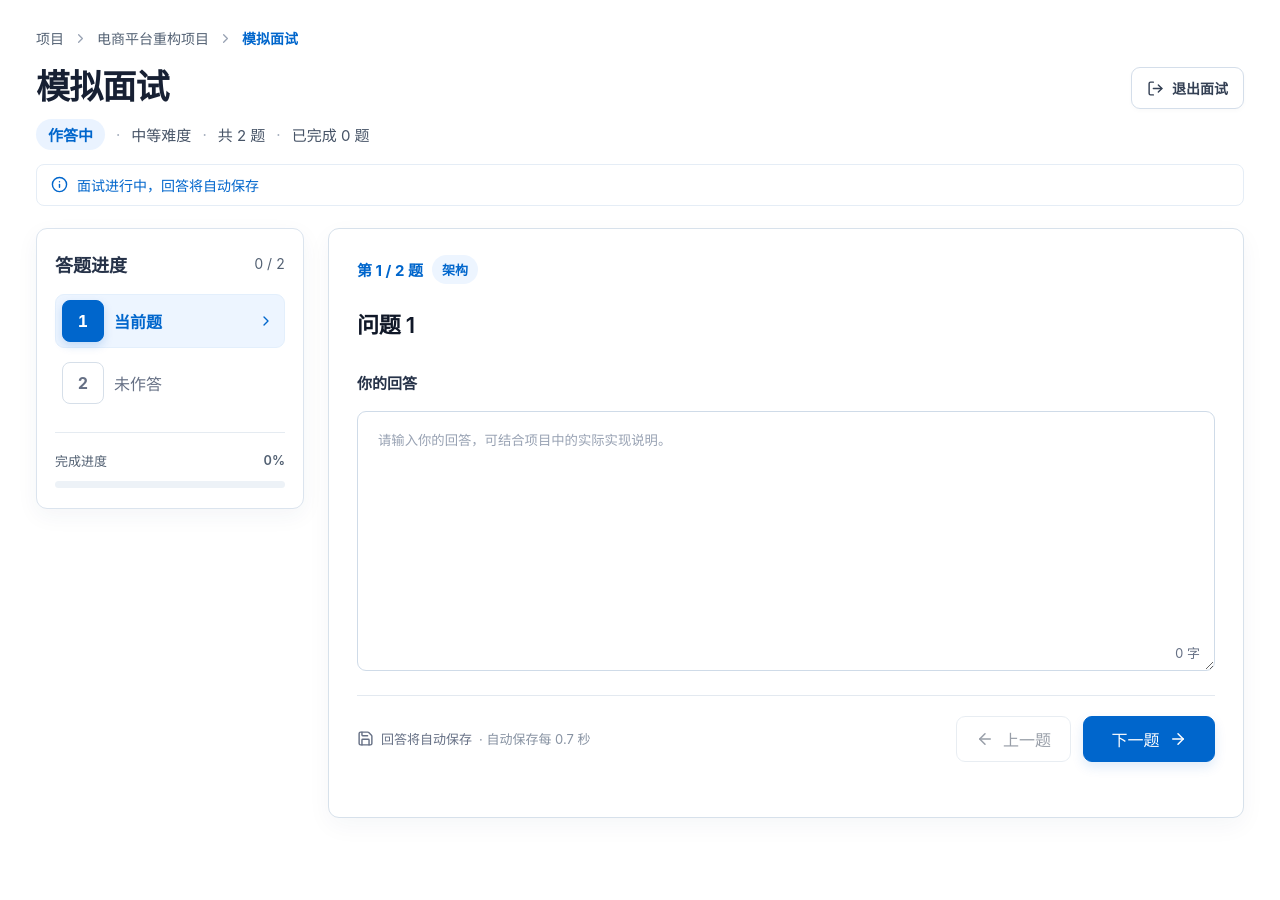
Scenario: InterviewSessionClient › retries a failed save through the existing answer endpoint
Step 1. Type "需要保存的回答" into the text box labelled "你的回答" → (786, 541), box [357,411,1215,671]
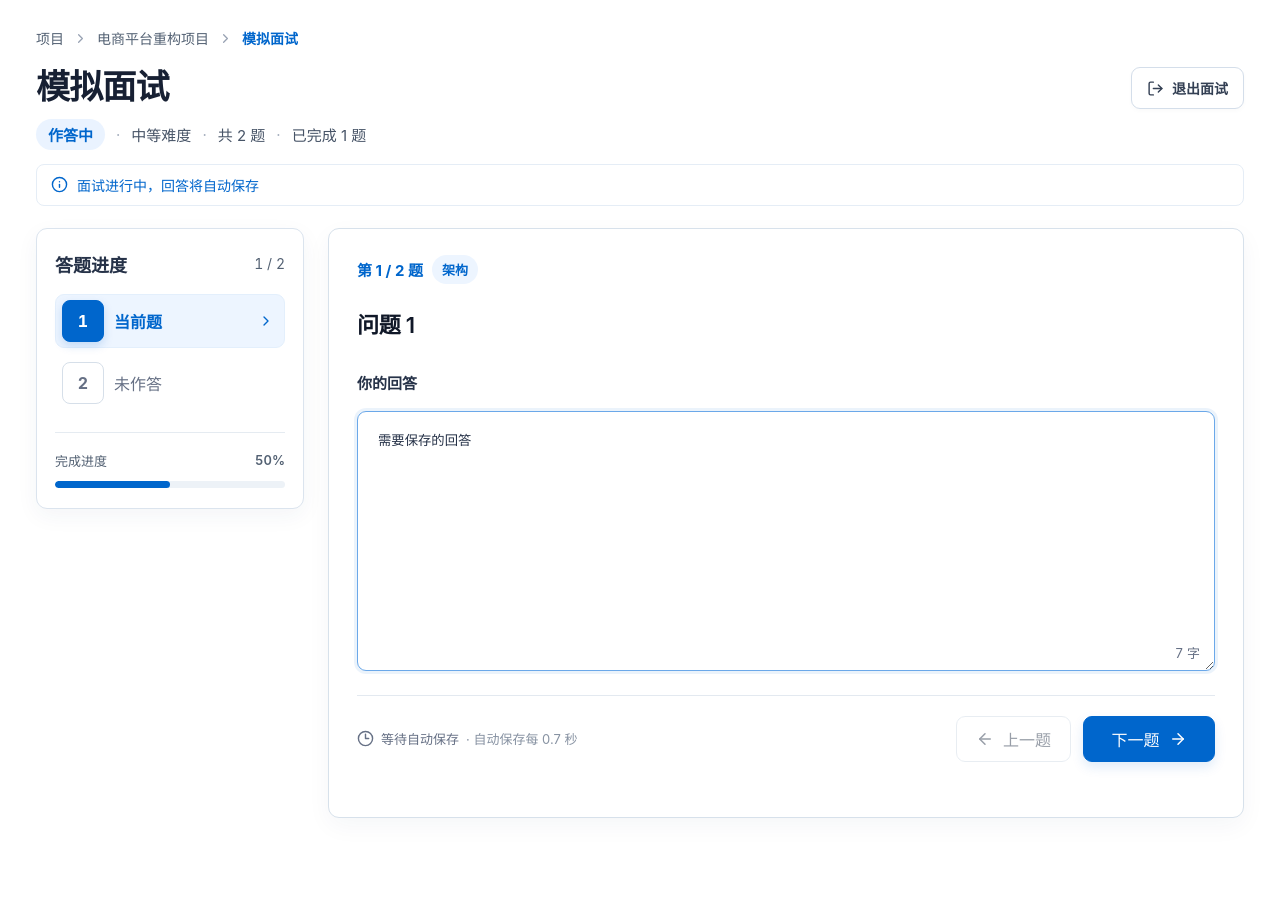
Step 2. Click the button "下一题" → (1149, 739), box [1083,716,1215,762]
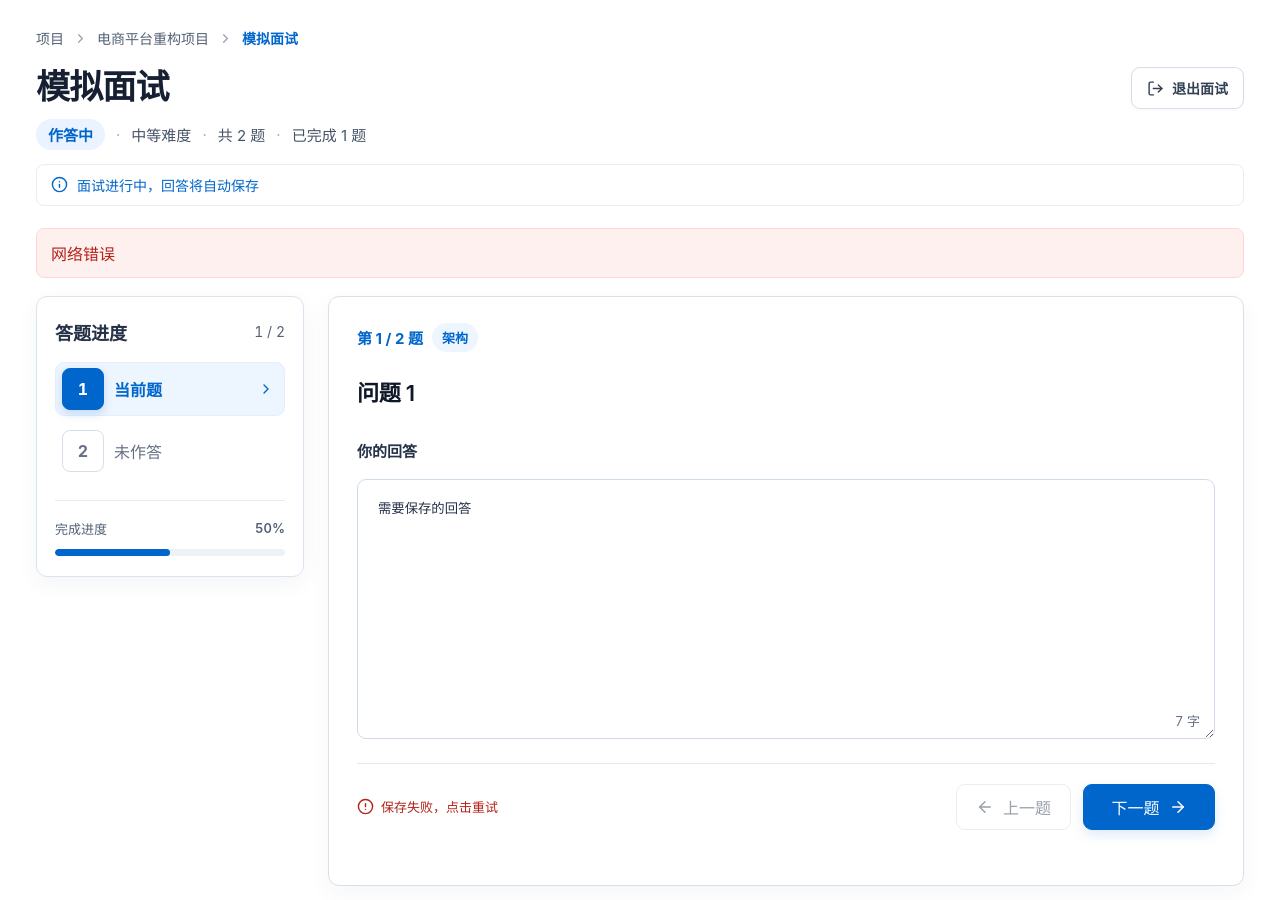
Result: the message reads "网络错误" at [51,244,115,264]
Step 3. Click the button "保存失败，点击重试" → (428, 807), box [357,788,498,826]
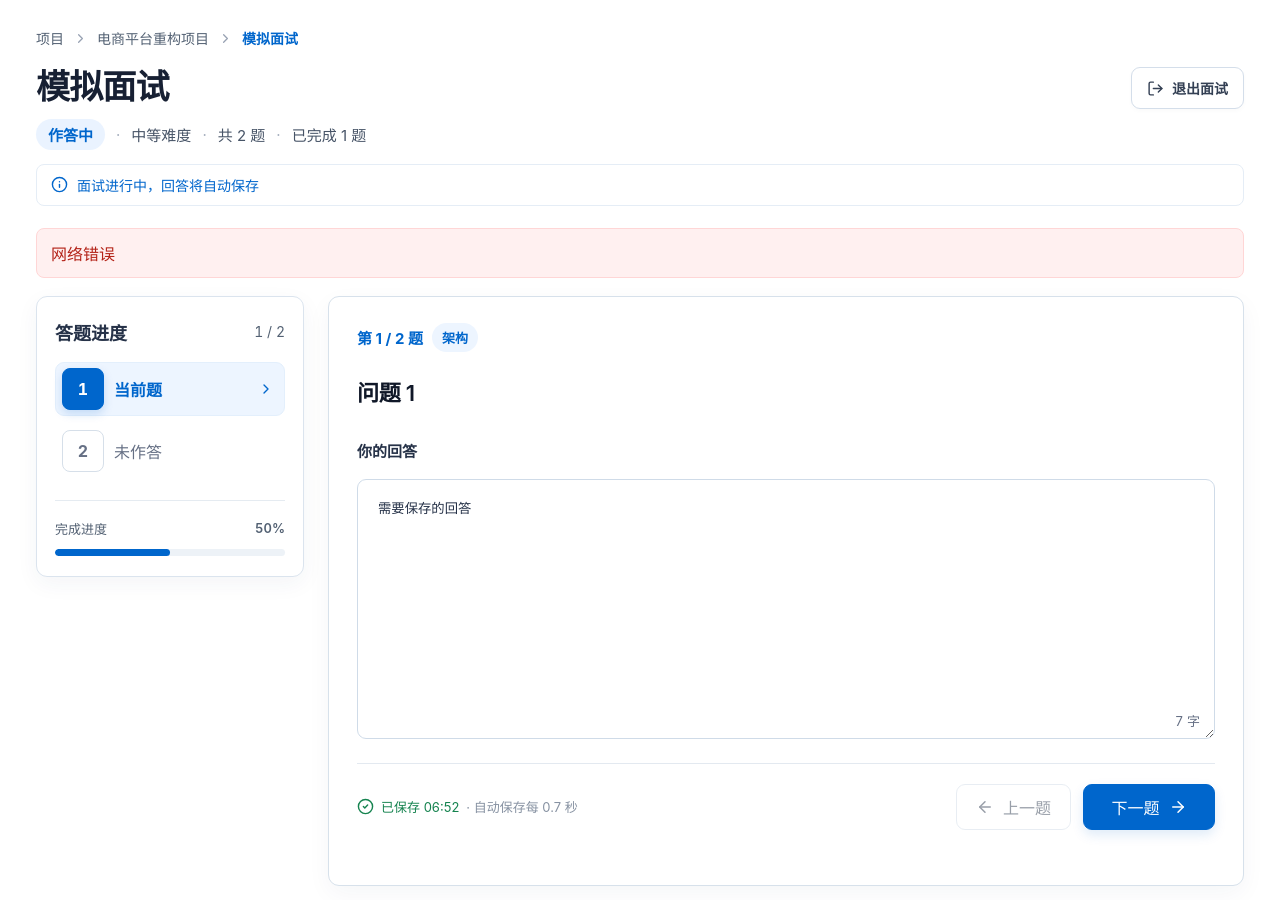
Result: the text "已保存 06:52 · 自动保存每 0.7 秒" is shown at [357,798,578,815]
